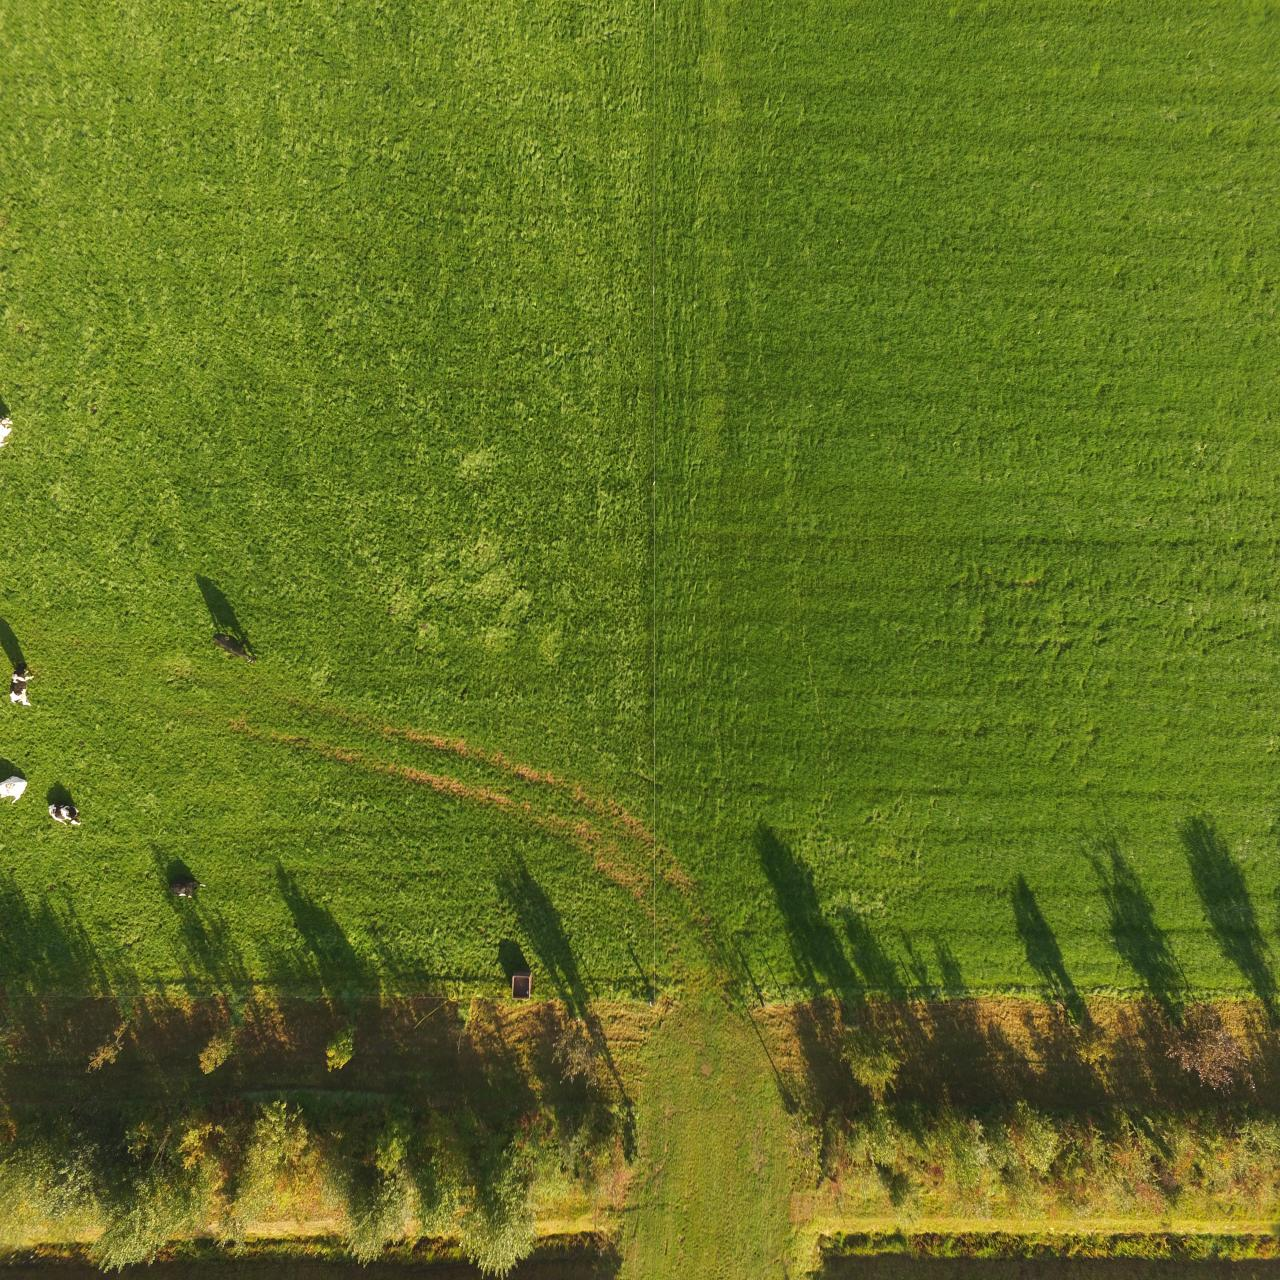cow: (205, 627, 260, 670), (7, 654, 36, 716), (45, 801, 90, 831), (166, 873, 206, 903)
